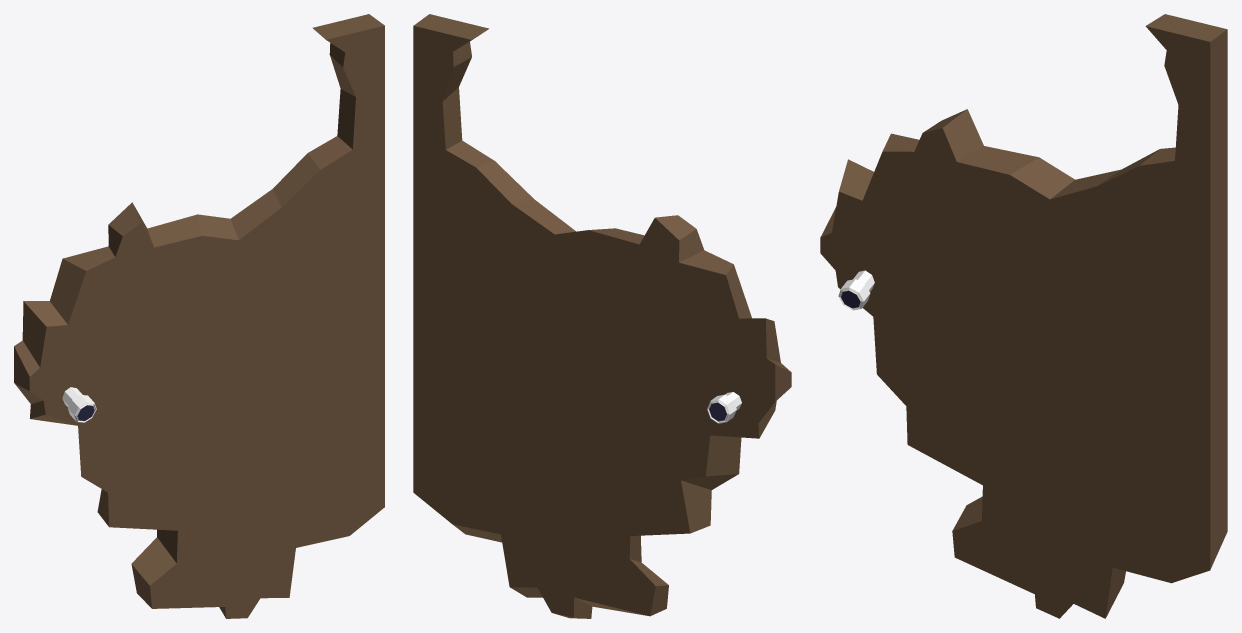
The model's file is 3D_RegularDoor-broken.fbx.
3 renders of one model, left to right at view 1: azimuth 30°, elevation 25°; view 2: azimuth 150°, elevation 25°; view 3: azimuth 330°, elevation 25°, orthographic. The views are drawn at different scales.
Parts seen in each view (by area): view 1: Cube; view 2: Cube; view 3: Cube.
Boxes of the visible parts, x1,y1,x2,y2 form: Cube: [14, 14, 384, 618]; Cube: [413, 14, 791, 618]; Cube: [820, 14, 1227, 618].
Bounding box in the file's own units: 130 × 196 × 29.31.
